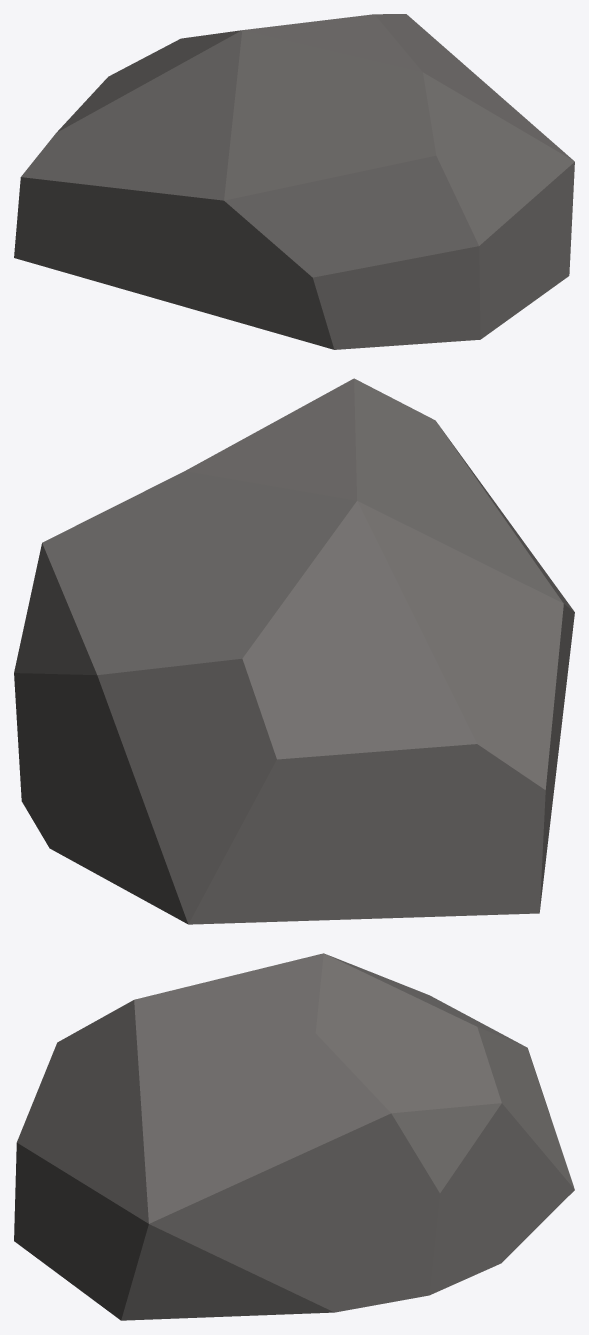
The model's file is Rock2.fbx.
The picture shows the model from 3 angles, top to bottom: view 1: azimuth 30°, elevation 25°; view 2: azimuth 150°, elevation 25°; view 3: azimuth 270°, elevation 25°; orthographic projection. The views are drawn at different scales.
Visible parts, largest first — view 1: Rock2; view 2: Rock2; view 3: Rock2.
Part boxes in pixels (x1,y1,x2,y2): Rock2: [14, 14, 574, 349]; Rock2: [14, 378, 574, 924]; Rock2: [14, 953, 574, 1320].
Bounding box in the file's own units: 65.47 × 33.91 × 69.49.
